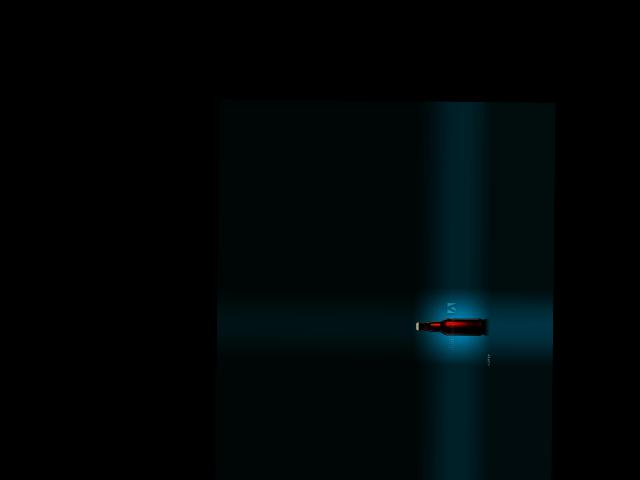beer: (416, 318, 483, 336)
